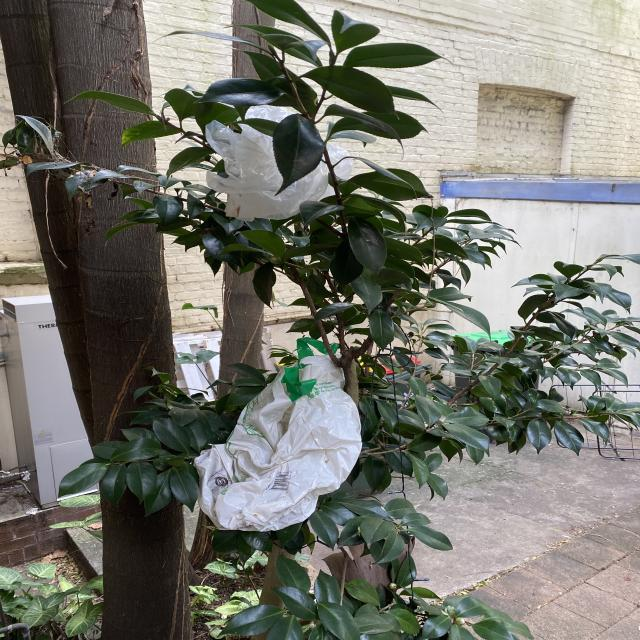bag: (192, 351, 370, 538)
cloth: (194, 97, 338, 232)
